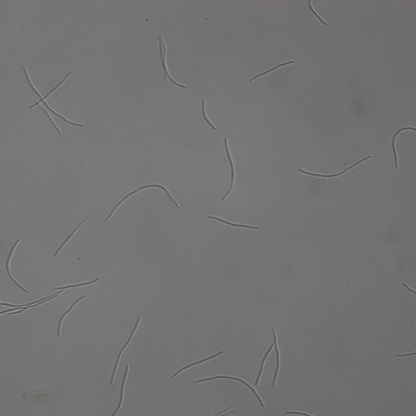Sensitive: (24, 67, 85, 135), (105, 183, 179, 221), (195, 374, 263, 408), (110, 318, 139, 382), (299, 154, 371, 179), (157, 36, 186, 88), (1, 292, 58, 317), (173, 350, 225, 377), (257, 329, 280, 387), (5, 239, 29, 293), (55, 217, 89, 255), (109, 365, 132, 416), (56, 296, 85, 335), (391, 126, 416, 170), (220, 136, 236, 200), (250, 60, 293, 80), (208, 214, 260, 230), (54, 277, 100, 290), (200, 98, 216, 129)
